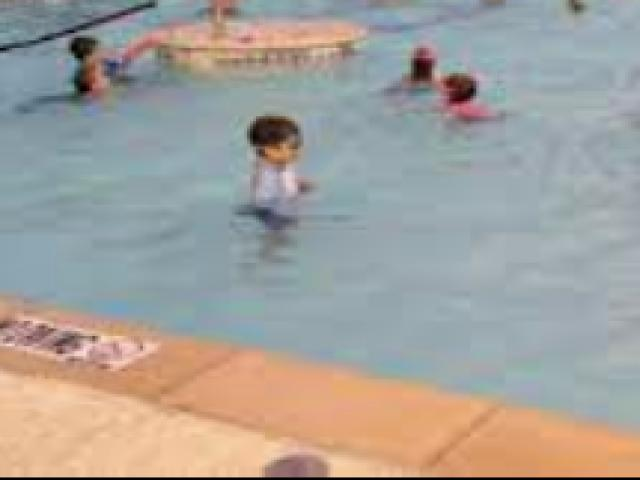swimming: (241, 117, 323, 222), (60, 34, 128, 105), (434, 72, 486, 140), (398, 46, 442, 103)
